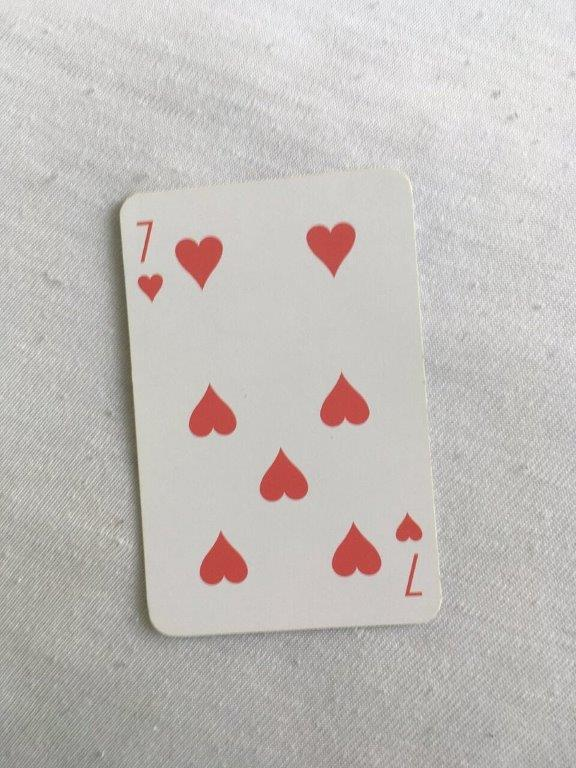7H: (115, 163, 444, 642)
